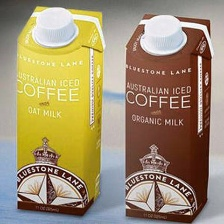carton: (121, 8, 217, 223), (12, 3, 107, 218)
